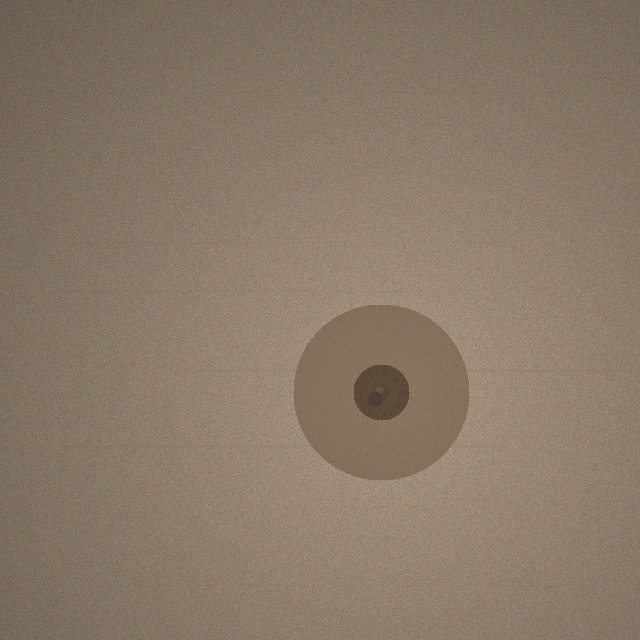cold_weld: (293, 304, 469, 480)
